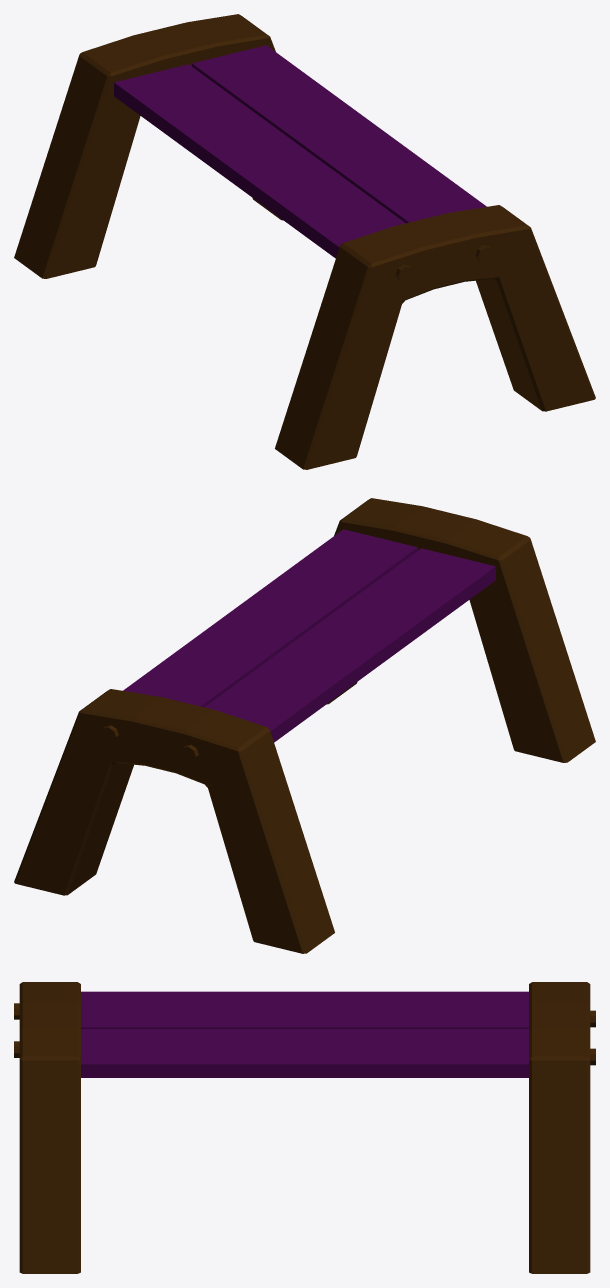
Rendered from Bench_Station_Metal_01.FBX.
3 renders of one model, top to bottom at view 1: azimuth 30°, elevation 25°; view 2: azimuth 150°, elevation 25°; view 3: azimuth 270°, elevation 25°, orthographic. The views are drawn at different scales.
Visible parts, largest first — view 1: Bench_Station_Metal_01_LOD0; view 2: Bench_Station_Metal_01_LOD0; view 3: Bench_Station_Metal_01_LOD0.
Part boxes in pixels (x1,y1,x2,y2): Bench_Station_Metal_01_LOD0: (14,14,595,469); Bench_Station_Metal_01_LOD0: (14,498,595,953); Bench_Station_Metal_01_LOD0: (14,982,595,1273).
Size of what is drawn, in the model's own units: 126 by 79.28 by 221.
